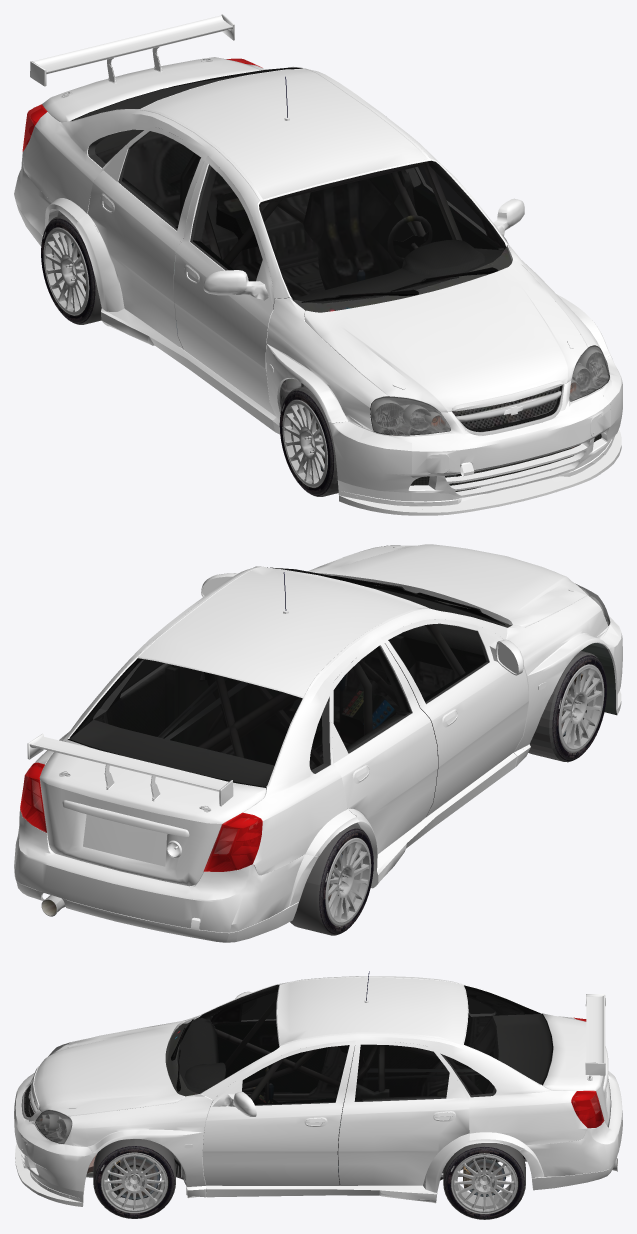
File: lacetti.glb
3 renders of one model, top to bottom at view 1: azimuth 30°, elevation 25°; view 2: azimuth 150°, elevation 25°; view 3: azimuth 270°, elevation 25°, orthographic. The views are drawn at different scales.
Visible parts, largest first — view 1: obj116_Material6, obj141_Material 585, obj134_Material6, obj136_Material4, obj109_Material6, obj90_Material6, obj100_Material6, obj104_Material6, obj89_Material4, obj169_Material4, obj165_Material6, obj85_Material6 (+22 smaller); view 2: obj116_Material6, obj137_Material4, obj141_Material 585, obj165_Material6, obj138_Material6, obj134_Material6, obj90_Material6, obj100_Material6, obj89_Material4, obj140_Material 593, obj169_Material4, obj135_Material6 (+17 smaller); view 3: obj116_Material6, obj94_Material6, obj134_Material6, obj141_Material 585, obj136_Material4, obj102_Material6, obj93_Material4, obj137_Material4, obj117_Material 585, obj173_Material4, obj91_Material 585, obj165_Material6 (+21 smaller).
Part boxes in pixels (x1,y1,x2,y2): obj116_Material6: (22,64,507,431); obj141_Material 585: (96,134,503,302); obj134_Material6: (304,260,587,412); obj136_Material4: (259,160,506,303); obj109_Material6: (377,380,610,515); obj90_Material6: (174,156,275,416); obj100_Material6: (266,298,388,434); obj104_Material6: (328,421,426,515); obj89_Material4: (88,129,200,230); obj169_Material4: (190,164,262,281); obj165_Material6: (42,57,261,122); obj85_Material6: (30,14,234,86); obj116_Material6: (35,566,517,888); obj137_Material4: (69,658,302,786); obj141_Material 585: (158,588,499,769); obj165_Material6: (39,739,266,886); obj138_Material6: (15,808,250,942); obj134_Material6: (308,544,587,627); obj90_Material6: (381,619,528,816); obj100_Material6: (506,595,610,767); obj89_Material4: (309,646,411,773); obj140_Material 593: (67,720,273,788); obj169_Material4: (388,623,489,703); obj135_Material6: (226,854,318,942); obj116_Material6: (200,976,587,1203); obj94_Material6: (202,1040,355,1185); obj134_Material6: (31,1021,185,1116); obj141_Material 585: (178,998,498,1103); obj136_Material4: (177,985,279,1093); obj102_Material6: (64,1093,212,1198); obj93_Material4: (354,1044,496,1101); obj137_Material4: (464,985,552,1084); obj117_Material 585: (200,985,540,1181); obj173_Material4: (242,1045,349,1105); obj91_Material 585: (211,998,326,1092); obj165_Material6: (543,1013,611,1127).
Size of the model in its own units: 2.02 by 1.62 by 4.48.
15 materials, 7 textured.
